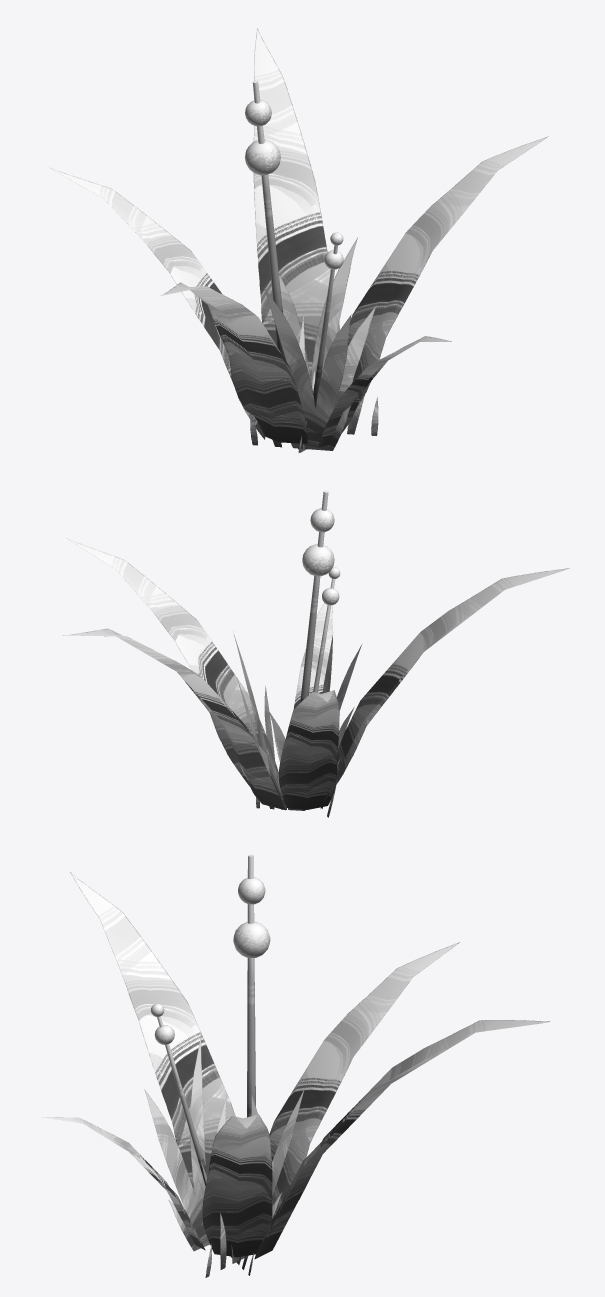
The model's file is plant1.FBX.
The picture shows the model from 3 angles, top to bottom: view 1: azimuth 30°, elevation 25°; view 2: azimuth 150°, elevation 25°; view 3: azimuth 270°, elevation 25°; orthographic projection. The views are drawn at different scales.
Visible parts, largest first — view 1: Plant 1; view 2: Plant 1; view 3: Plant 1.
Boxes of the visible parts, box(x1,y1,x2,y2) form: Plant 1: box(50, 28, 548, 452); Plant 1: box(63, 490, 569, 817); Plant 1: box(42, 854, 549, 1277).
Bounding box in the file's own units: 31.02 × 20.71 × 28.35.
